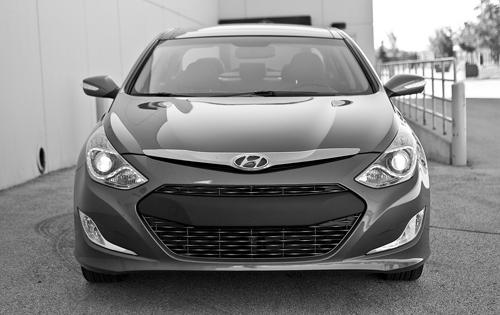car: (73, 26, 430, 282)
